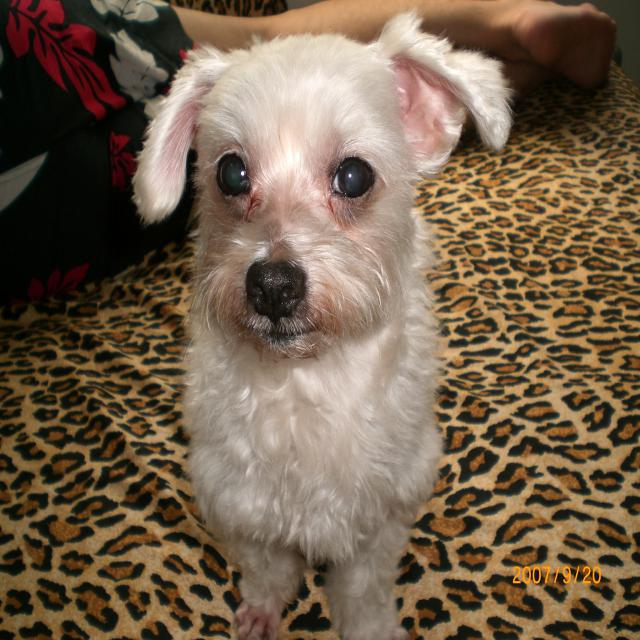eye: (328, 150, 379, 206), (214, 145, 255, 204)
